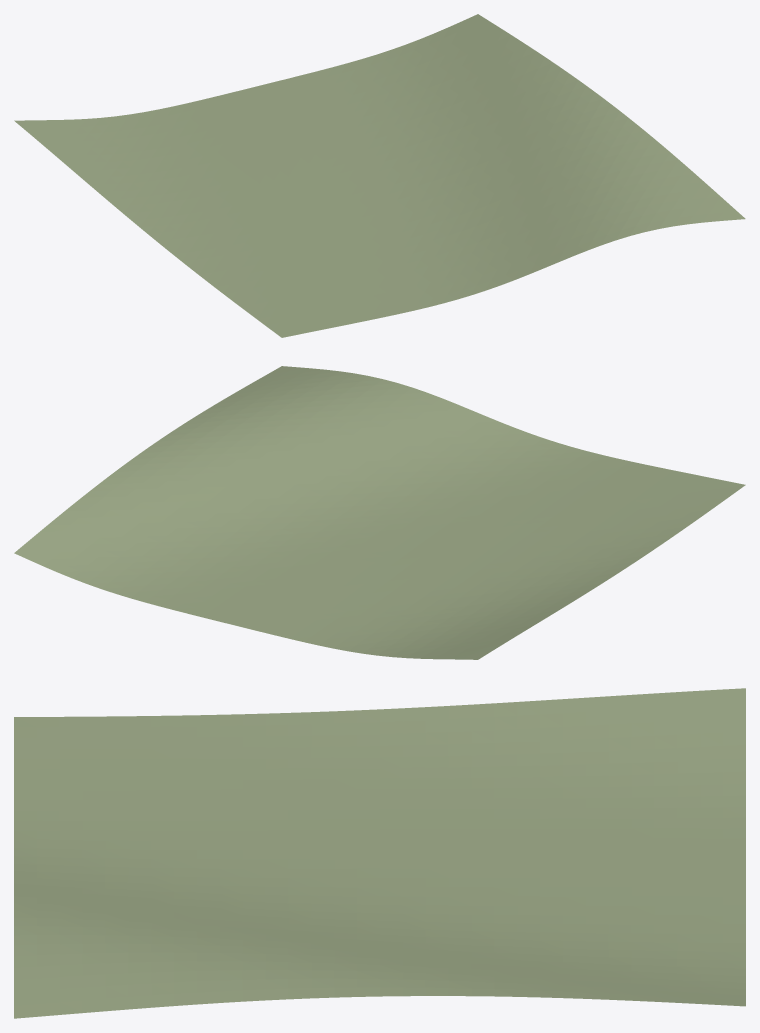
File: desert-6-7.glb
The picture shows the model from 3 angles, top to bottom: view 1: azimuth 30°, elevation 25°; view 2: azimuth 150°, elevation 25°; view 3: azimuth 270°, elevation 25°; orthographic projection. The views are drawn at different scales.
Parts seen in each view (by area): view 1: desert-6-7; view 2: desert-6-7; view 3: desert-6-7.
Boxes of the visible parts, left/top/right/bottom form: desert-6-7: left=14, top=14, right=745, bottom=337; desert-6-7: left=14, top=366, right=745, bottom=659; desert-6-7: left=14, top=688, right=745, bottom=1018.
Size of the model in its own units: 512 by 29.15 by 512.
